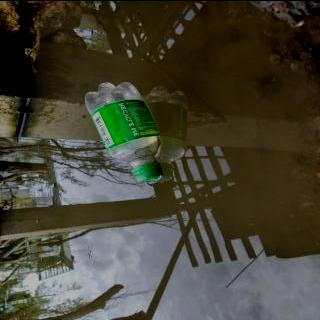bottle: (80, 80, 165, 184)
